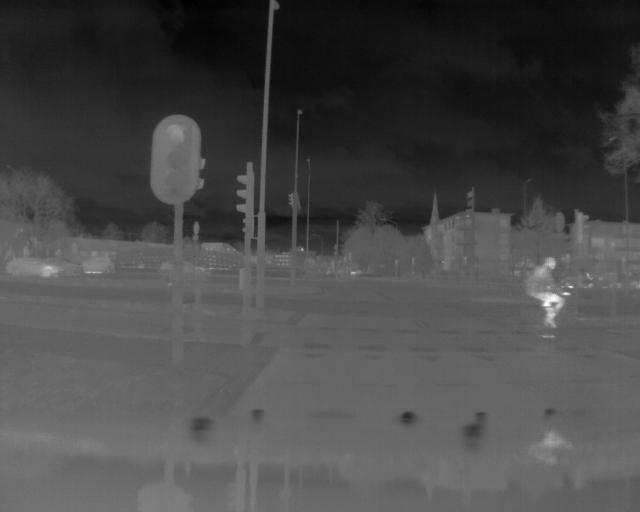car: (6, 251, 67, 281)
person: (524, 258, 569, 334)
